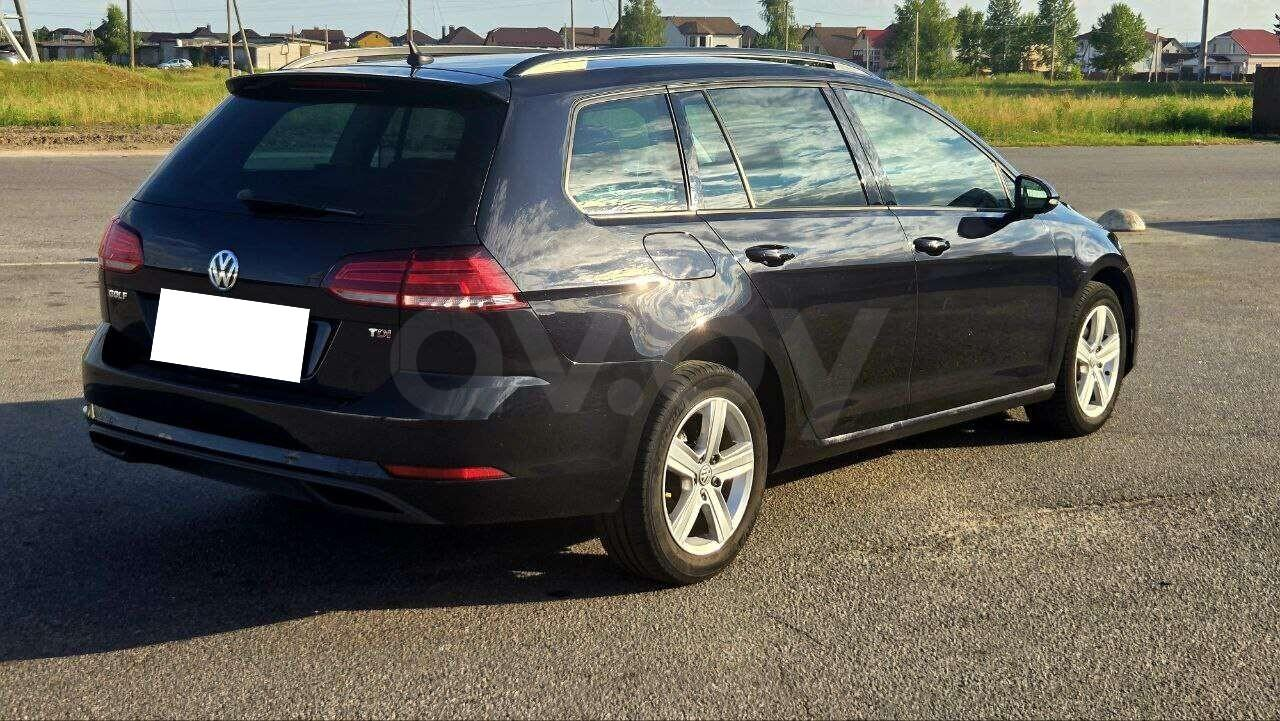Golf_2017-2021: (77, 46, 1143, 582)
